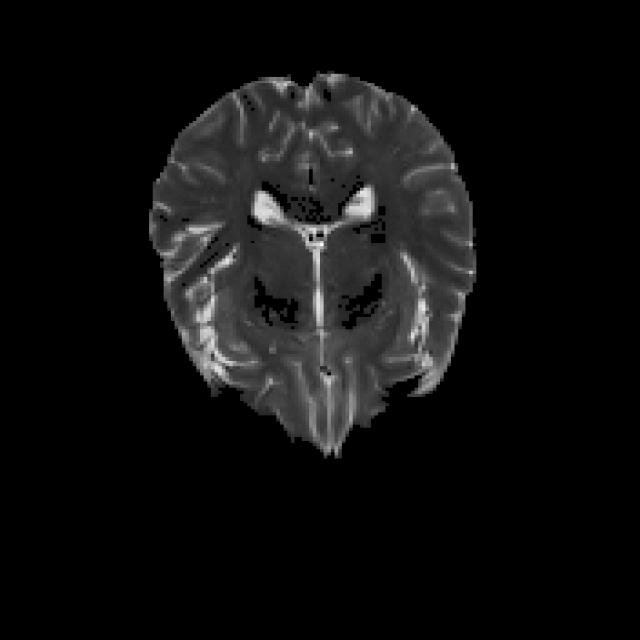parkinson: (146, 68, 477, 458)
